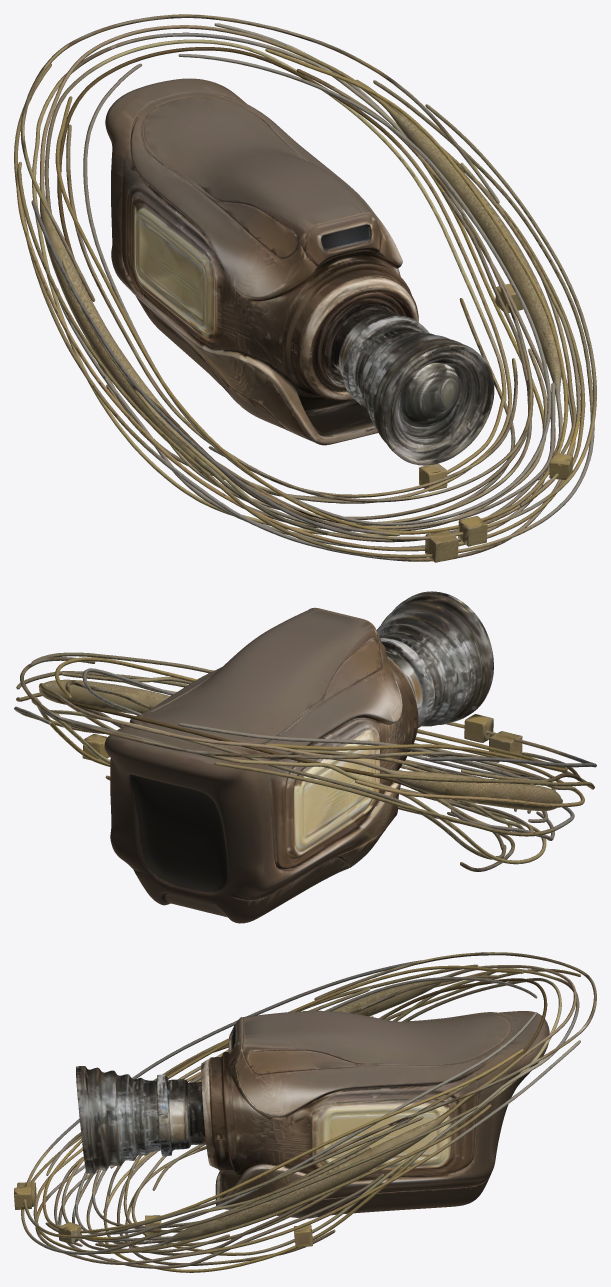
The model's file is camera_optimized-v2.glb.
3 views of the same model, one above another, from view 1: azimuth 30°, elevation 25°; view 2: azimuth 150°, elevation 25°; view 3: azimuth 270°, elevation 25° (orthographic). The views are drawn at different scales.
Visible parts, largest first — view 1: node_0; view 2: node_0; view 3: node_0.
Boxes of the visible parts, bbox=[...] form: node_0: bbox=[14, 14, 596, 562]; node_0: bbox=[14, 591, 596, 923]; node_0: bbox=[14, 952, 596, 1272].
Size of the model in its own units: 26159 by 15999 by 36012.
1 material, 1 textured.
